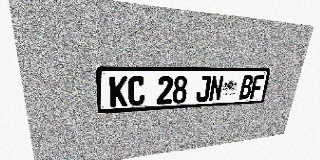2: (157, 76, 174, 104)
8: (172, 76, 188, 103)
B: (239, 75, 254, 99)
C: (128, 76, 145, 106)
F: (249, 75, 265, 99)
J: (195, 75, 211, 102)
K: (109, 76, 128, 107)
N: (208, 75, 224, 101)
